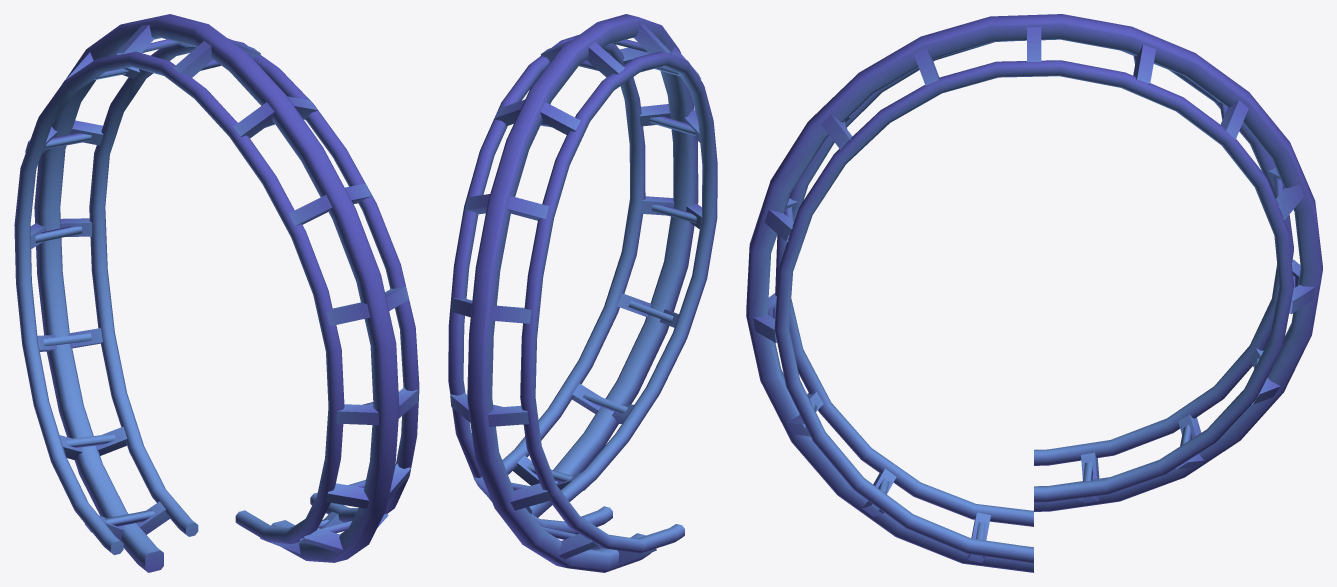
The model's file is gardens-5-1.glb.
3 renders of one model, left to right at view 1: azimuth 30°, elevation 25°; view 2: azimuth 150°, elevation 25°; view 3: azimuth 270°, elevation 25°, orthographic. The views are drawn at different scales.
Parts seen in each view (by area): view 1: gardens-5-1; view 2: gardens-5-1; view 3: gardens-5-1.
Boxes of the visible parts, x1,y1,x2,y2 form: gardens-5-1: (14, 14, 419, 572); gardens-5-1: (448, 14, 717, 572); gardens-5-1: (746, 14, 1322, 572).
Bounding box in the file's own units: 10.2 × 23.94 × 23.96.
1 material, 1 textured.
